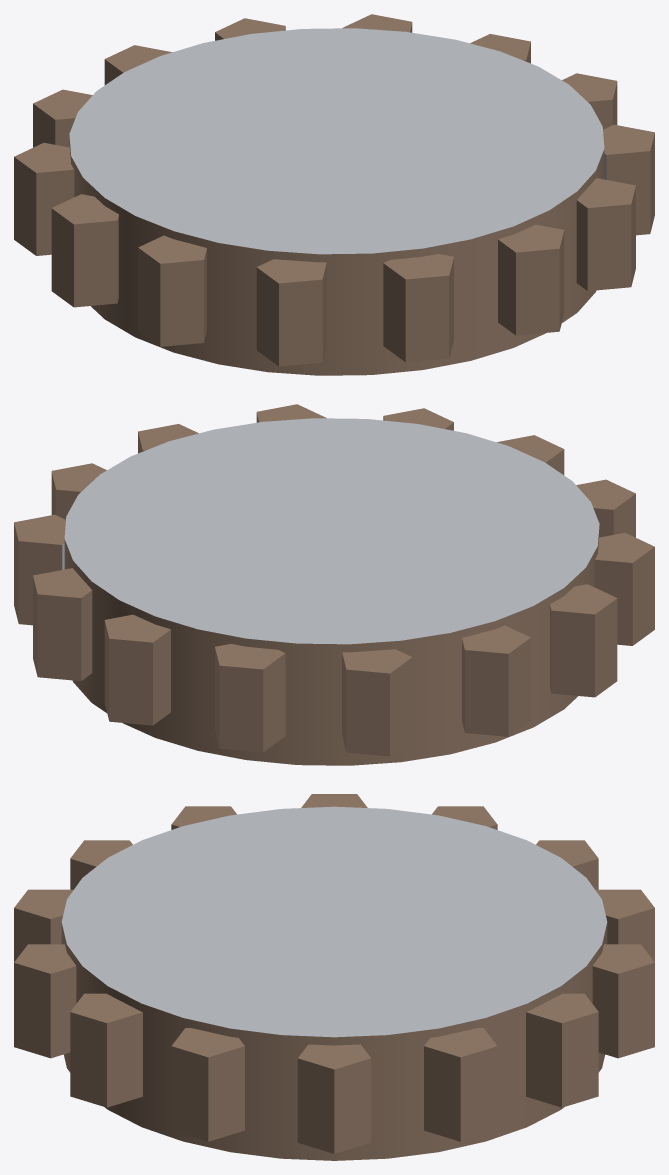
3 views of the same model, one above another, from view 1: azimuth 30°, elevation 25°; view 2: azimuth 150°, elevation 25°; view 3: azimuth 270°, elevation 25° (orthographic).
Visible parts, largest first — view 1: ratchet_14-30; view 2: ratchet_14-30; view 3: ratchet_14-30.
Part boxes in pixels (x1,y1,x2,y2): ratchet_14-30: (14, 14, 654, 375); ratchet_14-30: (14, 404, 654, 765); ratchet_14-30: (14, 794, 654, 1160).
Bounding box in the file's own units: 14.34 × 3 × 14.1.
